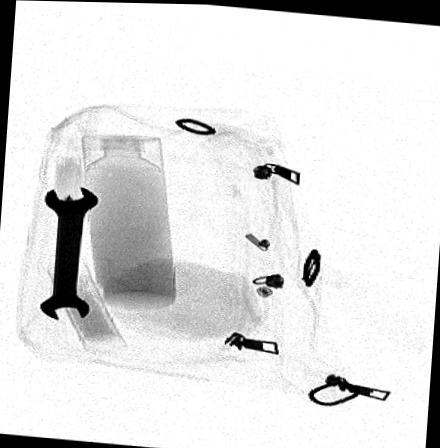Wrench: (37, 181, 100, 320)
